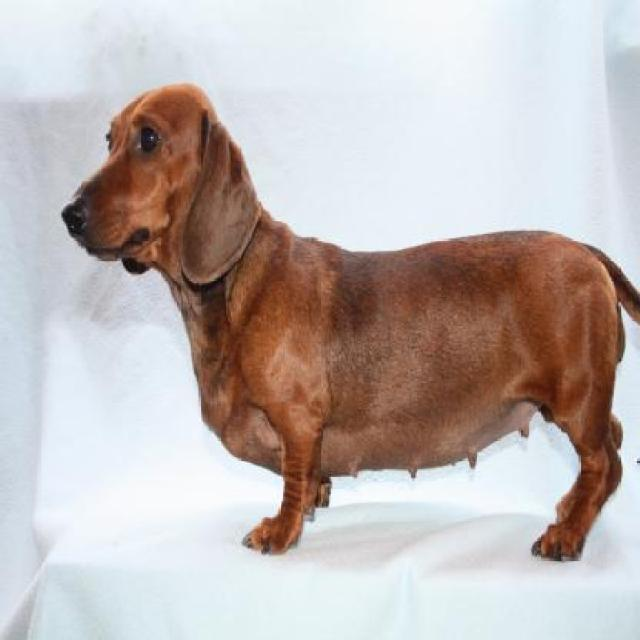Dog: (59, 77, 638, 571)
